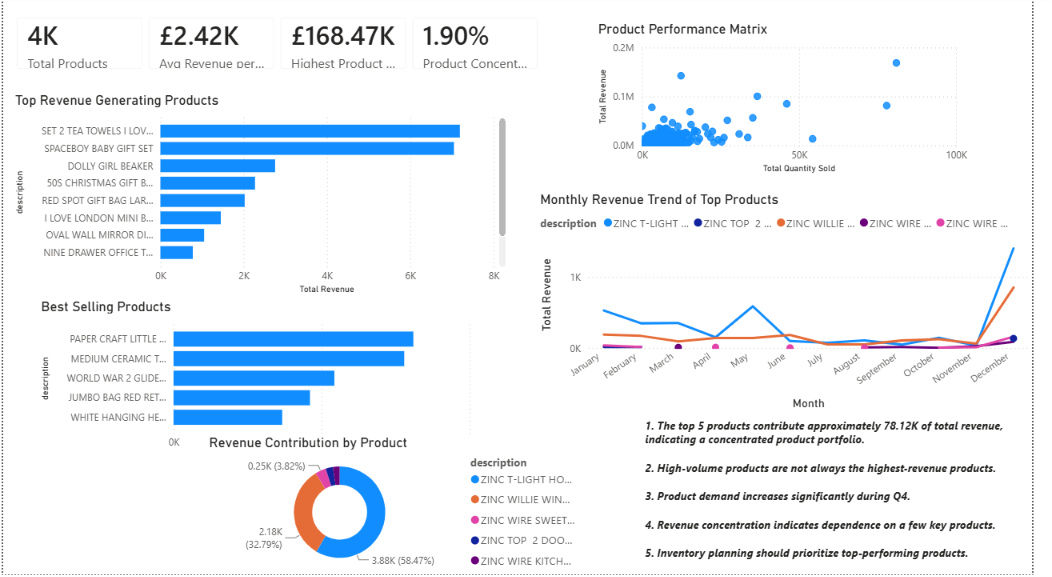

The dashboard page shown, as its layout file describes it:
{"tool":"powerbi","page":{"name":"PRODUCT & REVENUE ANALYSIS","canvas":[1280,720],"ordinal":3},"visuals":[{"type":"cardVisual","fields":{"Data":["public ecommerce_data.Total Products","public ecommerce_data.Revenue Per Product","public ecommerce_data.Top Product Revenue","public ecommerce_data.Product Concentration %"]},"box":[0,10,685.4,98.3],"z":0},{"type":"clusteredBarChart","title":"Top Revenue Generating Products","fields":{"Category":["public ecommerce_data.description"],"Y":["public ecommerce_data.Total Revenue"]},"box":[9.6,119.4,620.2,256.6],"z":1000},{"type":"barChart","title":"Best Selling Products","fields":{"Category":["public ecommerce_data.description"],"Y":["public ecommerce_data.Total Quantity Sold"]},"box":[42.5,376,557.1,207.2],"z":2000},{"type":"scatterChart","title":"Product Performance Matrix","fields":{"X":["public ecommerce_data.Total Quantity Sold"],"Y":["public ecommerce_data.Total Revenue"],"Category":["public ecommerce_data.description"]},"box":[735.5,31.6,469.3,194.9],"z":3000},{"type":"lineChart","title":"Monthly Revenue Trend of Top Products","fields":{"Y":["public ecommerce_data.Total Revenue"],"Series":["public ecommerce_data.description"],"Category":["public ecommerce_data.Cohort Month.Variation.Date Hierarchy.Year","public ecommerce_data.Cohort Month.Variation.Date Hierarchy.Quarter","public ecommerce_data.Cohort Month.Variation.Date Hierarchy.Month","public ecommerce_data.Cohort Month.Variation.Date Hierarchy.Day"]},"box":[662.8,242.9,617.5,277.2],"z":4000},{"type":"donutChart","title":"Revenue Contribution by Product","fields":{"Category":["public ecommerce_data.description"],"Y":["public ecommerce_data.Total Revenue"]},"box":[251.1,544.8,474.8,175.6],"z":5000},{"type":"textbox","box":[793.1,520.1,465.2,189.4],"z":6000}]}

Visuals, with their boxes in screenshot pixels (x1, y1, x2, y2), scaled from the page's 1280x720 canvas onto the 1052x577 screenshot:
cardVisual - public ecommerce_data.Total Products x public ecommerce_data.Revenue Per Product: (0, 8, 563, 87)
"Top Revenue Generating Products" clusteredBarChart: (8, 96, 518, 301)
"Best Selling Products" barChart: (35, 301, 493, 467)
"Product Performance Matrix" scatterChart: (604, 25, 990, 182)
"Monthly Revenue Trend of Top Products" lineChart: (545, 195, 1051, 417)
"Revenue Contribution by Product" donutChart: (206, 437, 597, 576)
textbox: (652, 417, 1034, 569)
